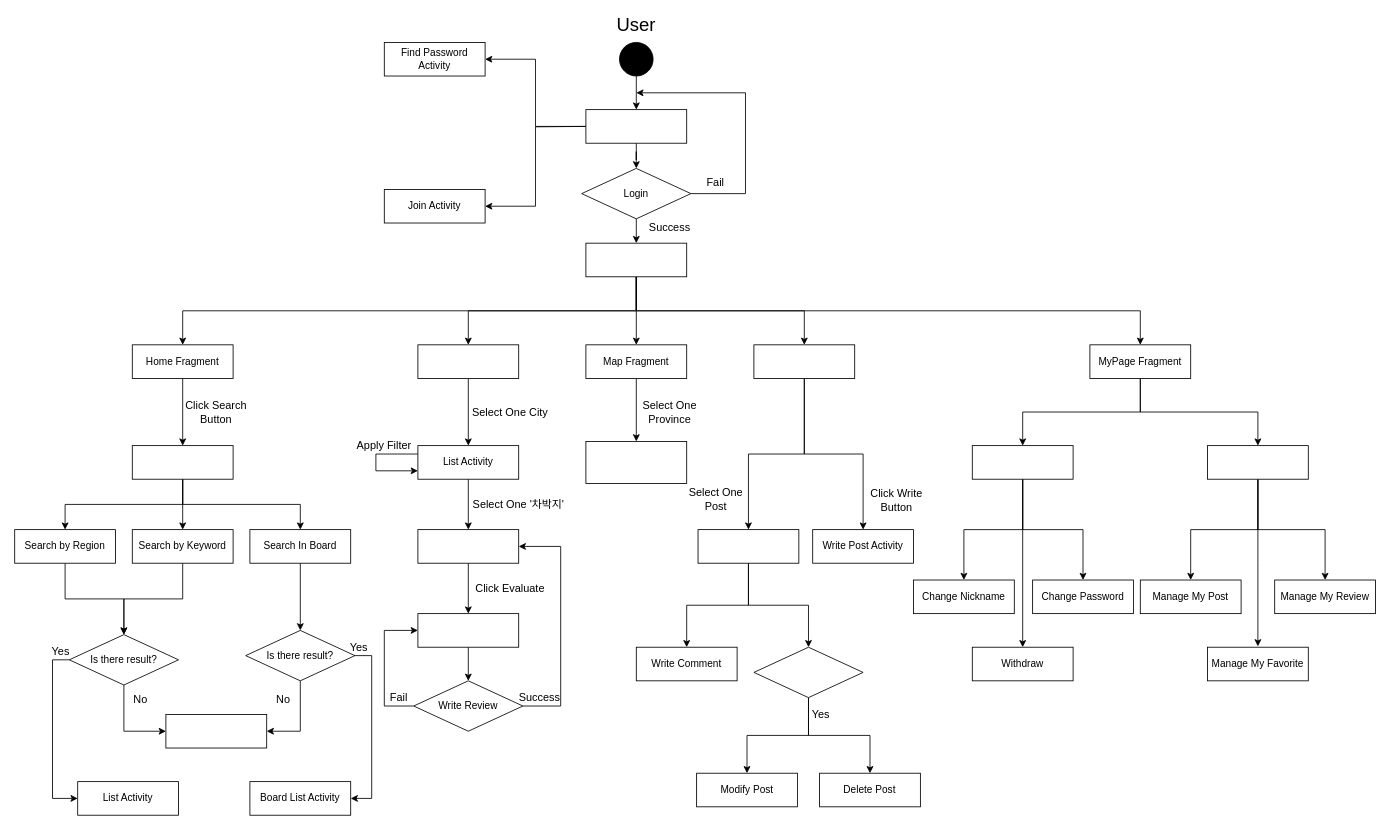
This 1390x830 diagram has some shape labels left out. The box of each missing label's shape, as (x1, y1, x2, y2) in pixels:
Board Fragment: (753, 344, 855, 378)
Detail Activity: (417, 529, 519, 563)
Is it writer?: (753, 646, 863, 698)
Login Activity: (585, 109, 687, 143)
Main Activity: (585, 242, 687, 277)
Manage Community Activity: (1207, 445, 1308, 479)
Manage Profile Activity: (971, 445, 1073, 479)
No Result Activity: (165, 714, 267, 748)
Rating Activity: (417, 613, 519, 647)
Region Choice Fragment: (417, 344, 519, 378)
Return Best '차박지' for the Selected Province: (585, 441, 687, 483)
Search Activity: (131, 445, 233, 479)
Show Post Activity: (697, 529, 799, 563)
